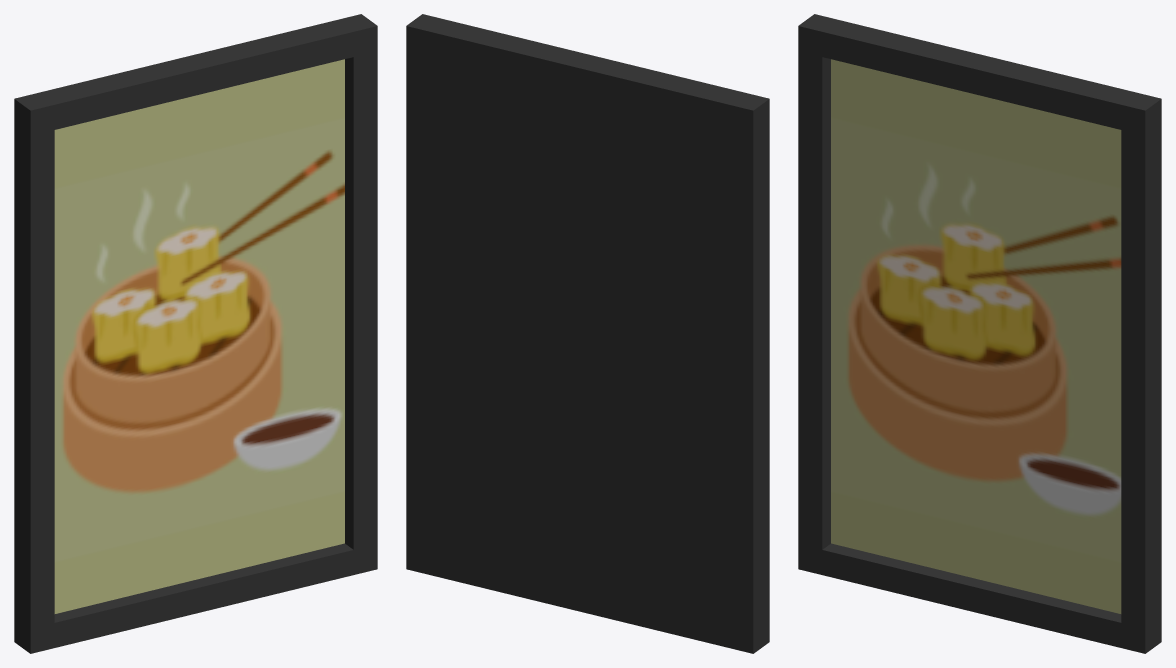
Rendered from B02_Cadre_B_03.fbx.
The picture shows the model from 3 angles, left to right: view 1: azimuth 30°, elevation 25°; view 2: azimuth 150°, elevation 25°; view 3: azimuth 330°, elevation 25°; orthographic projection.
Visible parts, largest first — view 1: B02_Cadre_B_03; view 2: B02_Cadre_B_03; view 3: B02_Cadre_B_03.
Part boxes in pixels (x1,y1,x2,y2): B02_Cadre_B_03: (14,14,377,653); B02_Cadre_B_03: (406,14,769,653); B02_Cadre_B_03: (798,14,1161,653).
Bounding box in the file's own units: 331 × 495 × 26.98.
